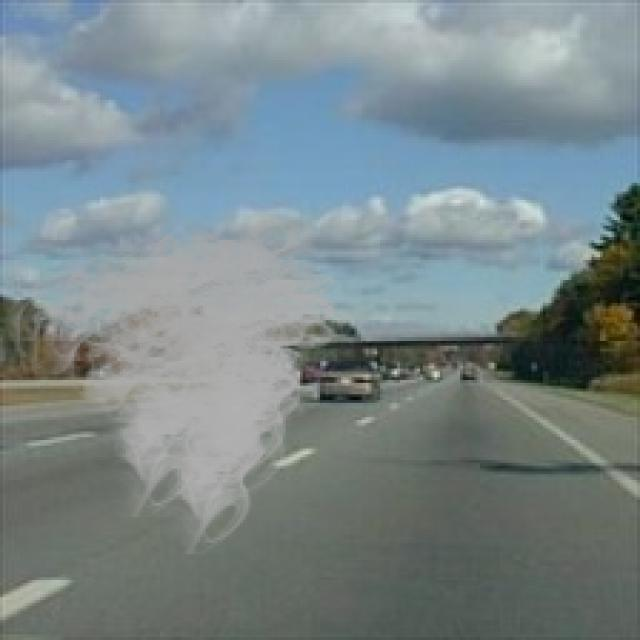Smoke: (0, 195, 369, 554)
